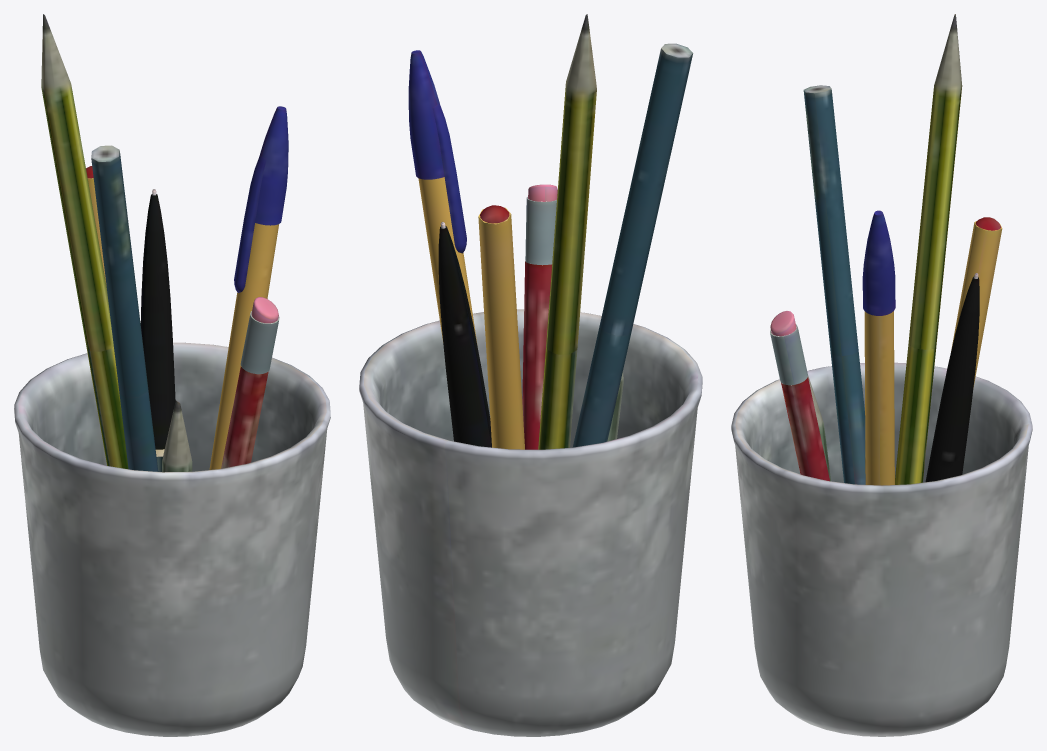
The model's file is pen-cup-ph.glb.
3 renders of one model, left to right at view 1: azimuth 30°, elevation 25°; view 2: azimuth 150°, elevation 25°; view 3: azimuth 270°, elevation 25°, orthographic. The views are drawn at different scales.
Parts seen in each view (by area): view 1: pen_cup; view 2: pen_cup; view 3: pen_cup.
Part boxes in pixels (left/top/right/bottom): pen_cup: left=14, top=14, right=330, bottom=736; pen_cup: left=359, top=14, right=702, bottom=736; pen_cup: left=731, top=14, right=1032, bottom=736.
Bounding box in the file's own units: 0.0837 × 0.1966 × 0.0837.
Materials: 1 (1 with a texture image).
